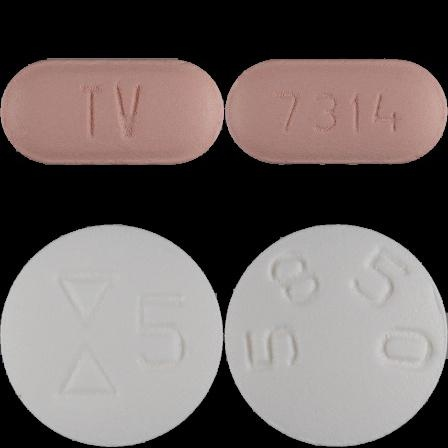0615-7719: (0, 0, 224, 224)
